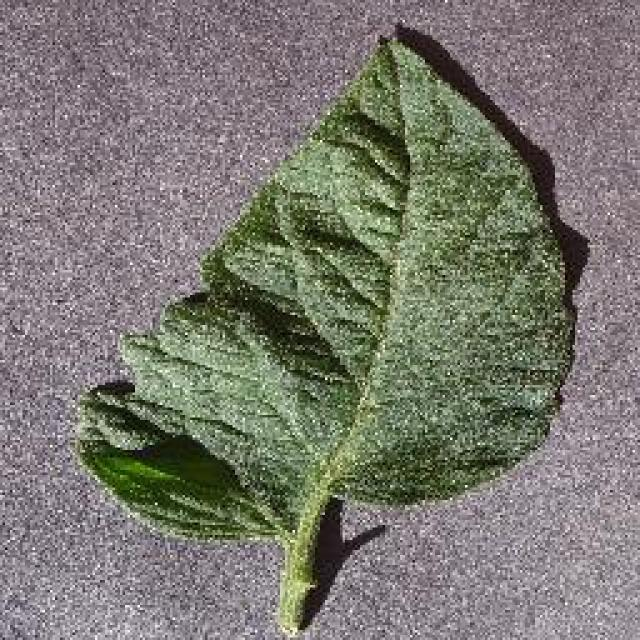Tomato healthy leaf: (89, 39, 576, 569)
